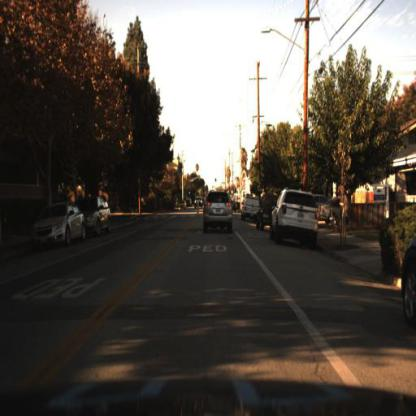car: (270, 186, 321, 252), (33, 201, 88, 253), (74, 192, 112, 237), (201, 187, 235, 237), (317, 193, 351, 227), (256, 190, 274, 233), (239, 195, 263, 224), (193, 190, 205, 214)
